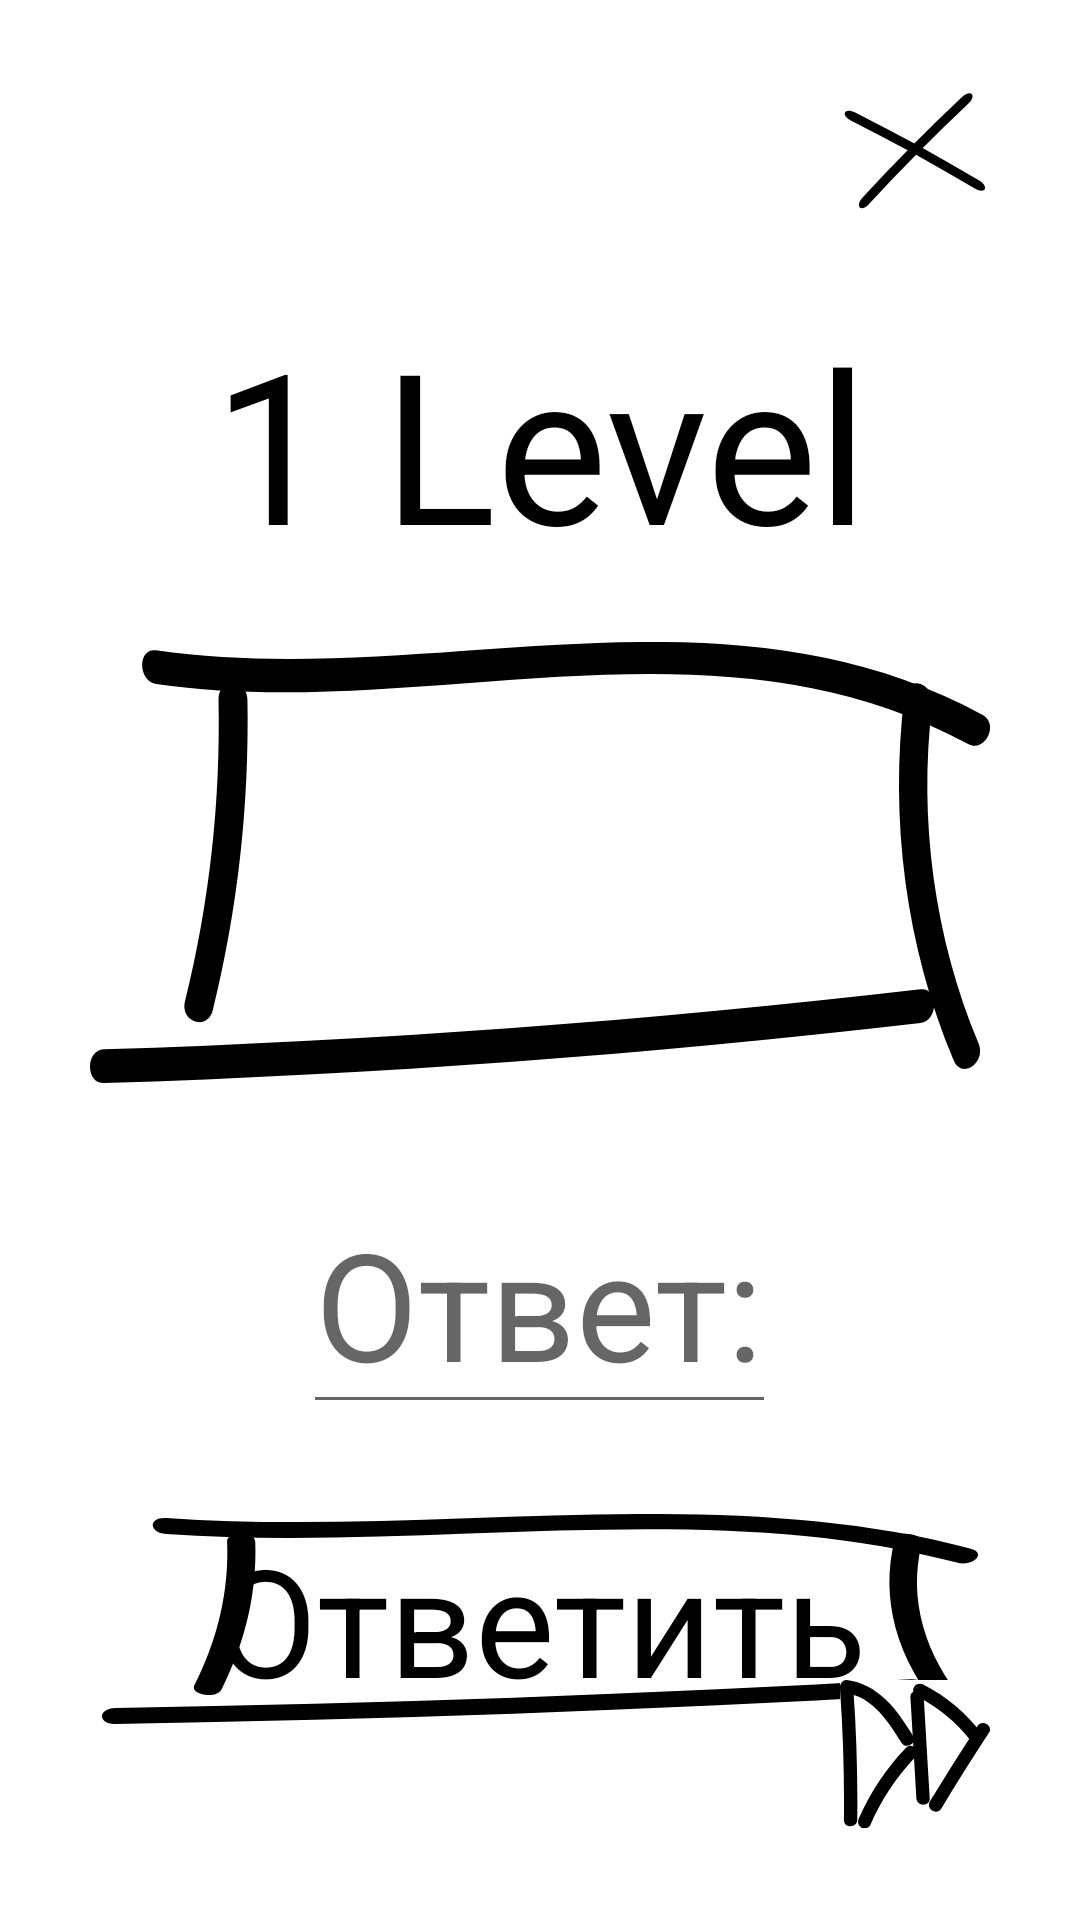

Icons on this 1080w x 1920h Android screen, each with the point to tap as (x=x, y=y):
forward: (x=915, y=1754)
